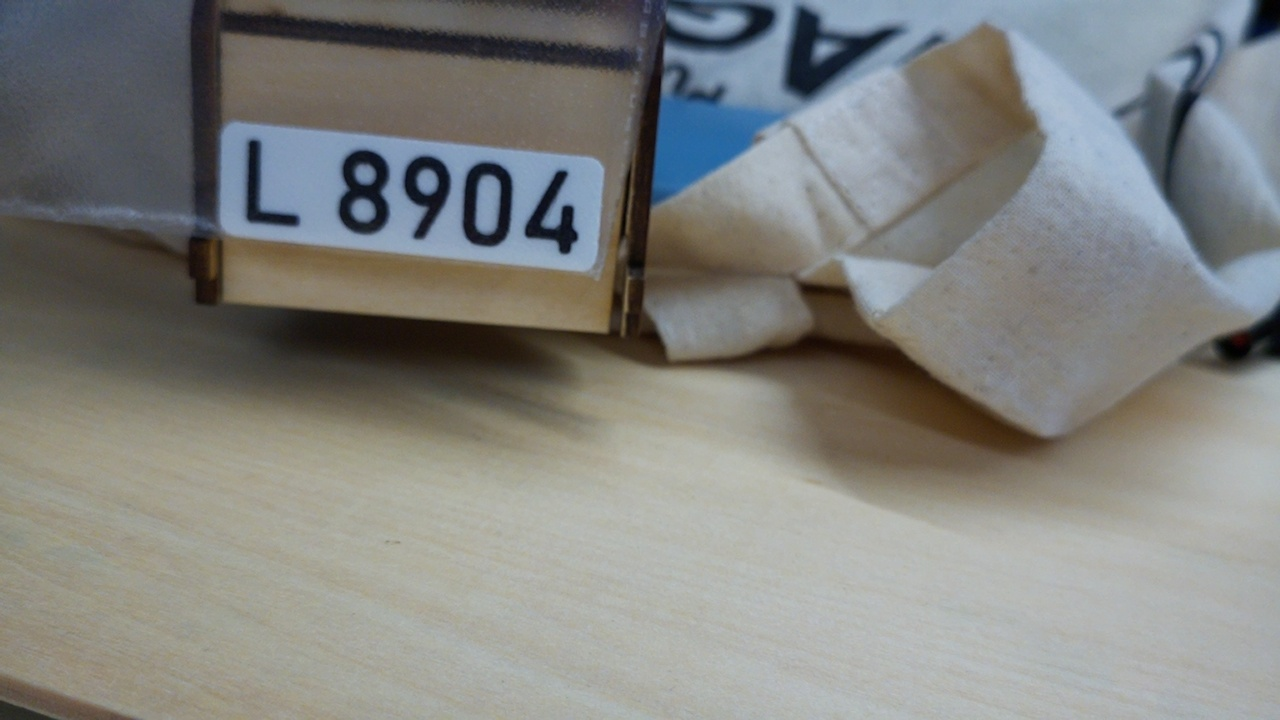license_plate: (217, 117, 607, 276)
